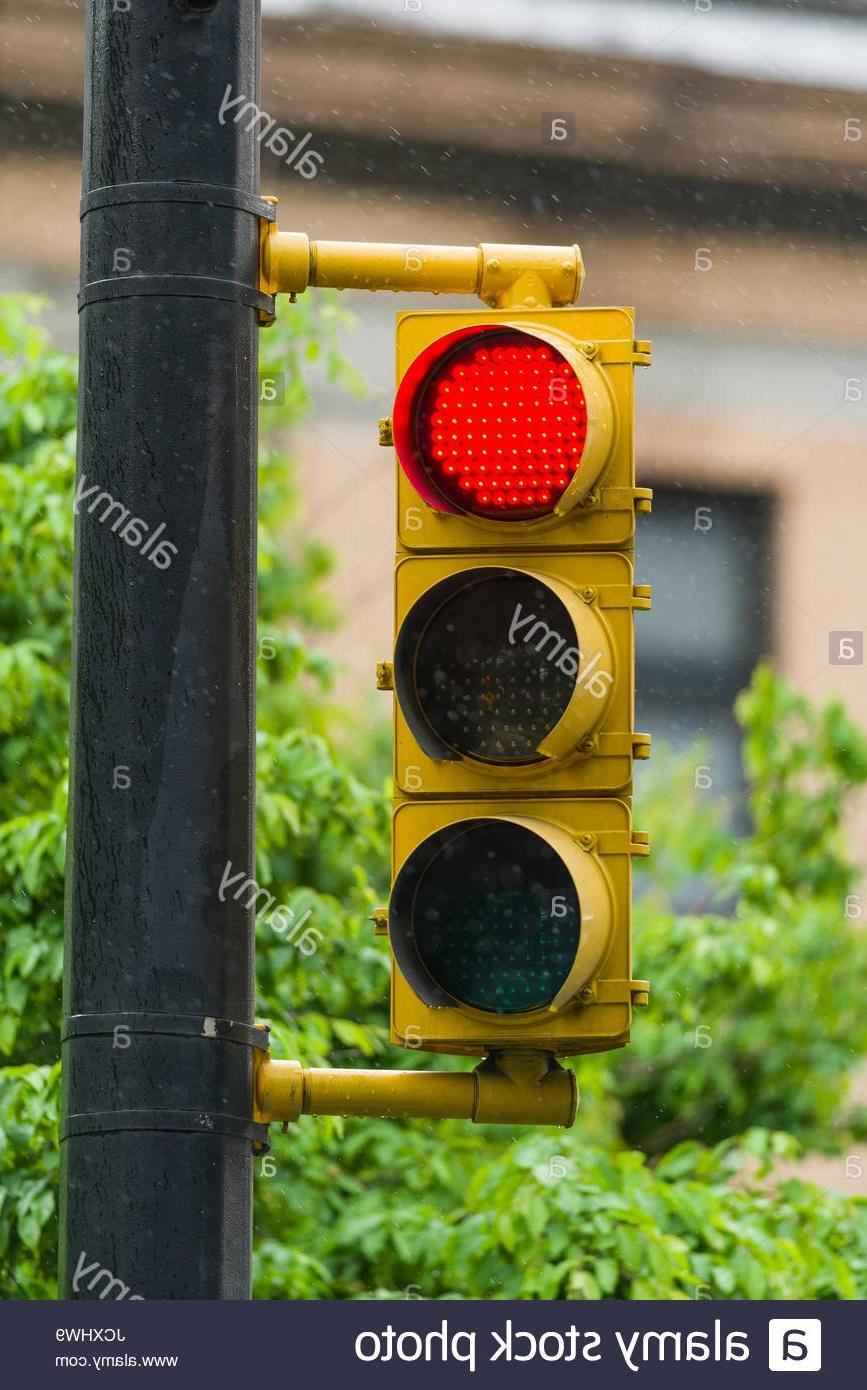red: (380, 280, 697, 1080)
